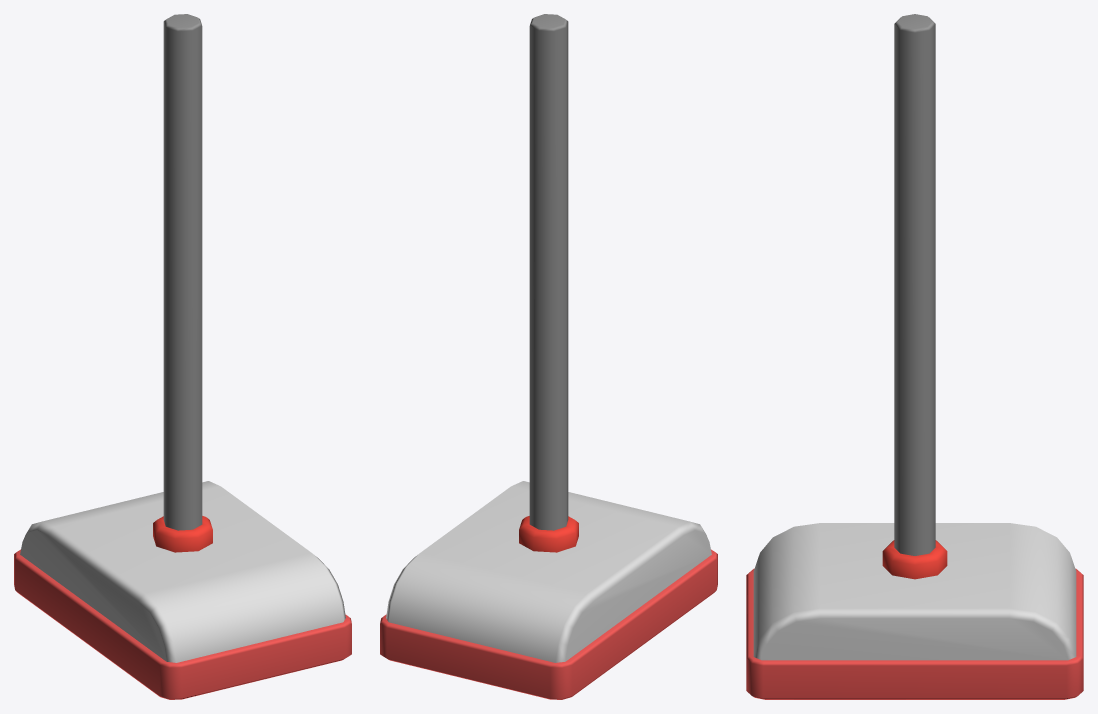
The model's file is obstacle_12_002.fbx.
The picture shows the model from 3 angles, left to right: view 1: azimuth 30°, elevation 25°; view 2: azimuth 150°, elevation 25°; view 3: azimuth 270°, elevation 25°; orthographic projection. The views are drawn at different scales.
Visible parts, largest first — view 1: obstacle_12_002; view 2: obstacle_12_002; view 3: obstacle_12_002.
Boxes of the visible parts, x1,y1,x2,y2 form: obstacle_12_002: (14, 14, 351, 699); obstacle_12_002: (380, 14, 717, 699); obstacle_12_002: (746, 14, 1083, 699).
Bounding box in the file's own units: 299 × 435 × 898.
